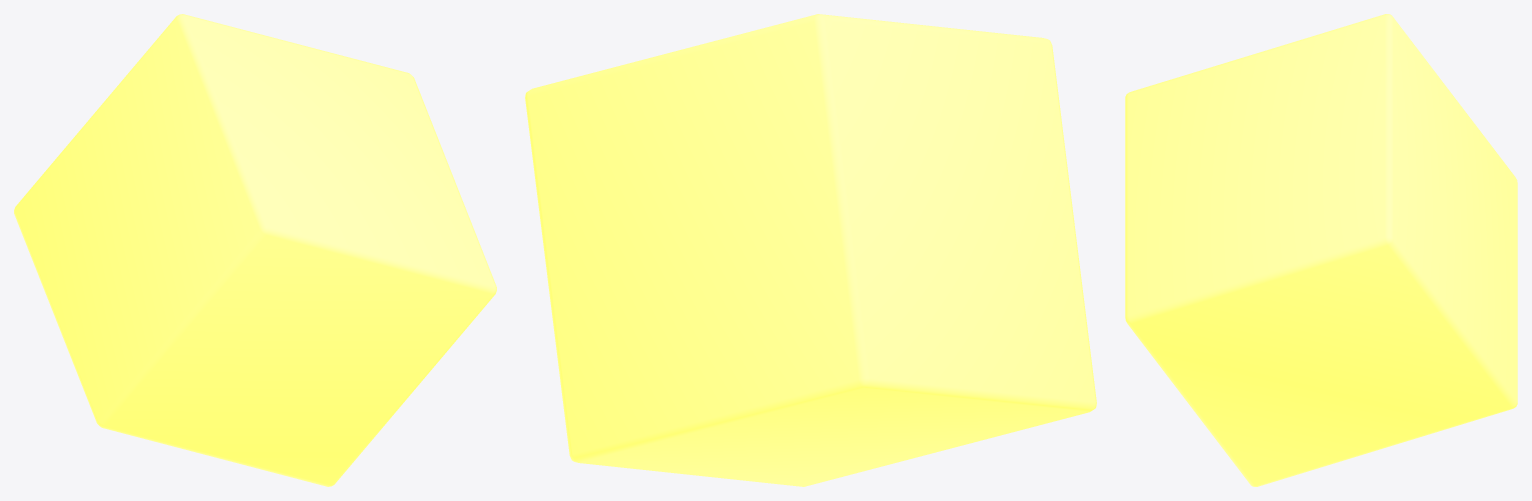
File: item_box.glb
3 renders of one model, left to right at view 1: azimuth 30°, elevation 25°; view 2: azimuth 150°, elevation 25°; view 3: azimuth 270°, elevation 25°, orthographic. The views are drawn at different scales.
Parts seen in each view (by area): view 1: CubeOuter; view 2: CubeOuter; view 3: CubeOuter.
Part boxes in pixels (x1=…): CubeOuter: x1=14, y1=14, x2=496, y2=486; CubeOuter: x1=525, y1=14, x2=1096, y2=486; CubeOuter: x1=1125, y1=14, x2=1517, y2=486.
Bounding box in the file's own units: 1.46 × 1.61 × 1.32.
